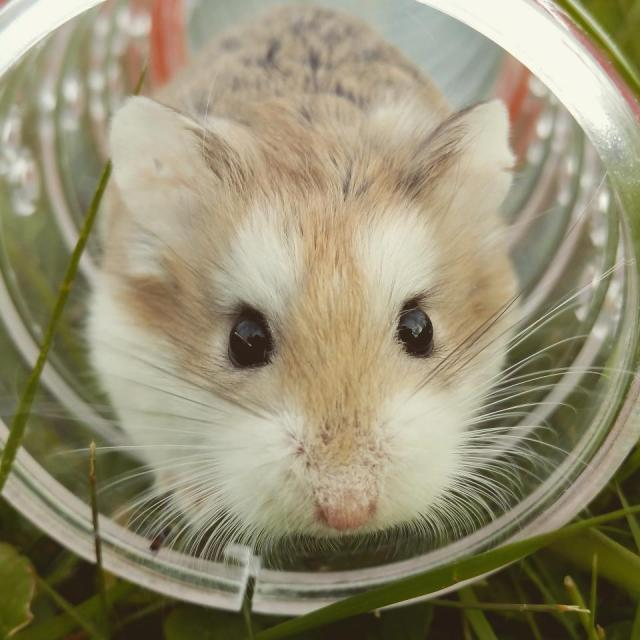hamster: (89, 11, 536, 552)
